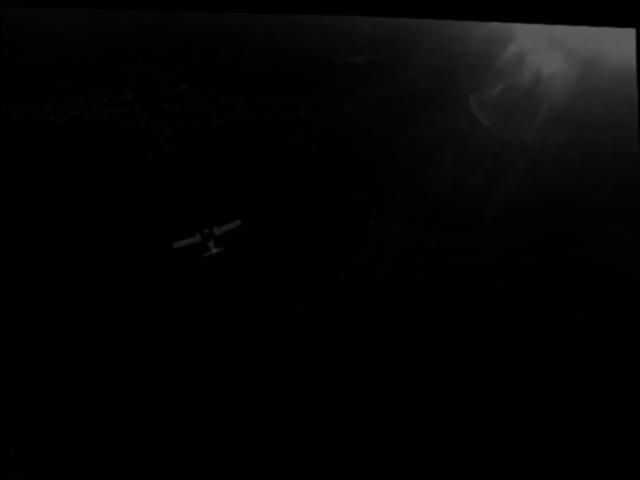hedef: (164, 202, 255, 271)
